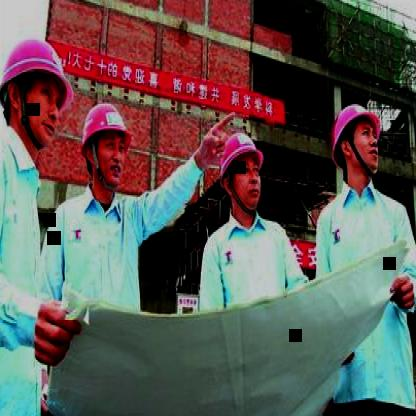helmet: (0, 35, 72, 141), (77, 104, 131, 195), (327, 104, 385, 187), (215, 133, 269, 219)
